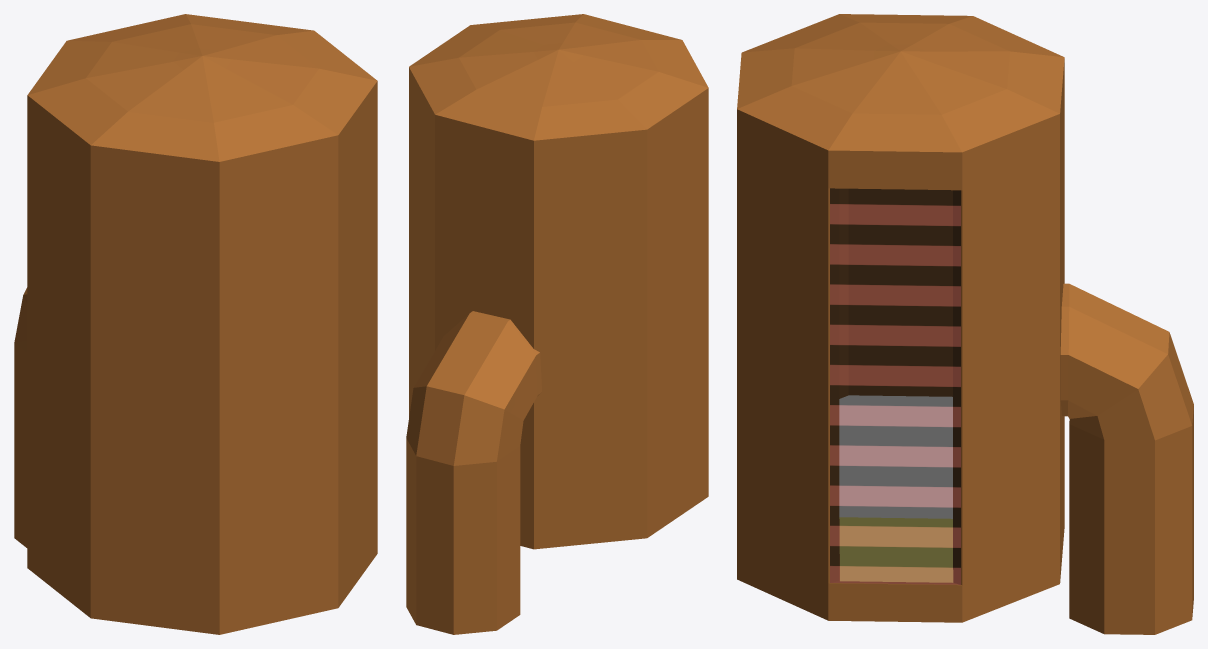
Rendered from VAT30.glb.
The picture shows the model from 3 angles, left to right: view 1: azimuth 30°, elevation 25°; view 2: azimuth 150°, elevation 25°; view 3: azimuth 270°, elevation 25°; orthographic projection. The views are drawn at different scales.
Visible parts, largest first — view 1: Cylinder, Cylinder.001; view 2: Cylinder, Cylinder.001; view 3: Cylinder, glass, Cylinder.001, liquidHeight.
Boxes of the visible parts, x1,y1,x2,y2 form: Cylinder: [27, 14, 377, 634]; Cylinder.001: [14, 287, 27, 547]; Cylinder: [409, 14, 708, 549]; Cylinder.001: [406, 311, 541, 634]; Cylinder: [737, 14, 1064, 622]; glass: [830, 188, 960, 584]; Cylinder.001: [1060, 283, 1193, 634]; liquidHeight: [839, 395, 952, 582].
Size of the model in its own units: 1.82 by 3.44 by 2.54.
4 materials, 1 textured.
